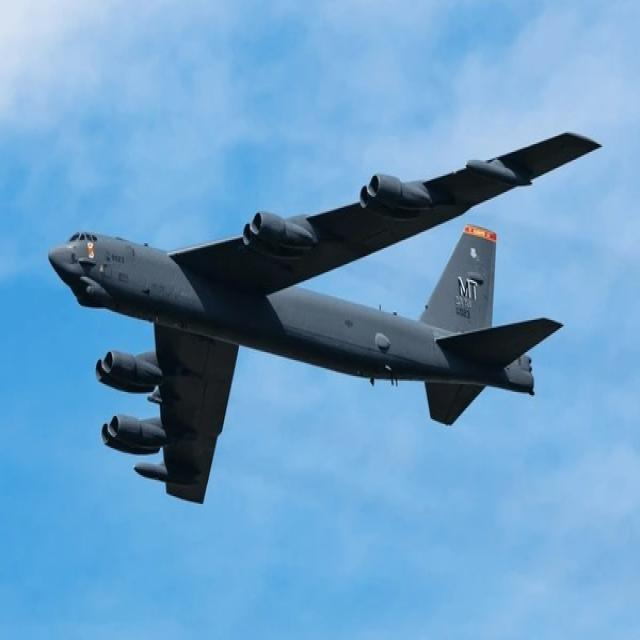B52: (45, 80, 626, 507)
